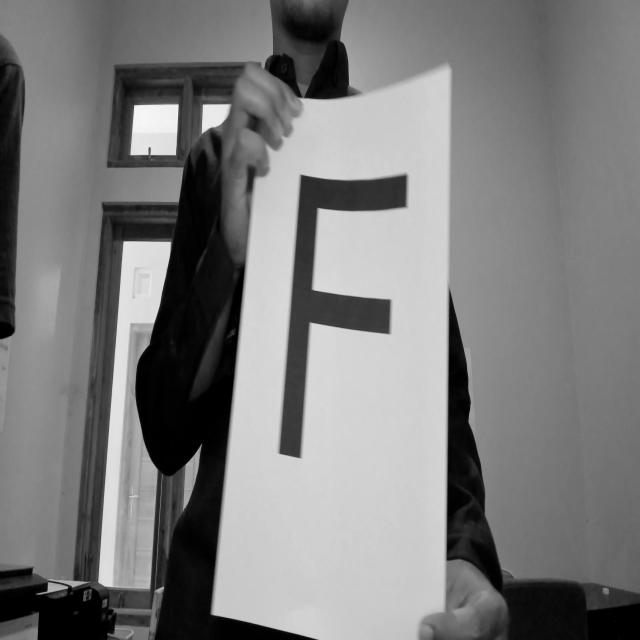f: (266, 163, 424, 490)
